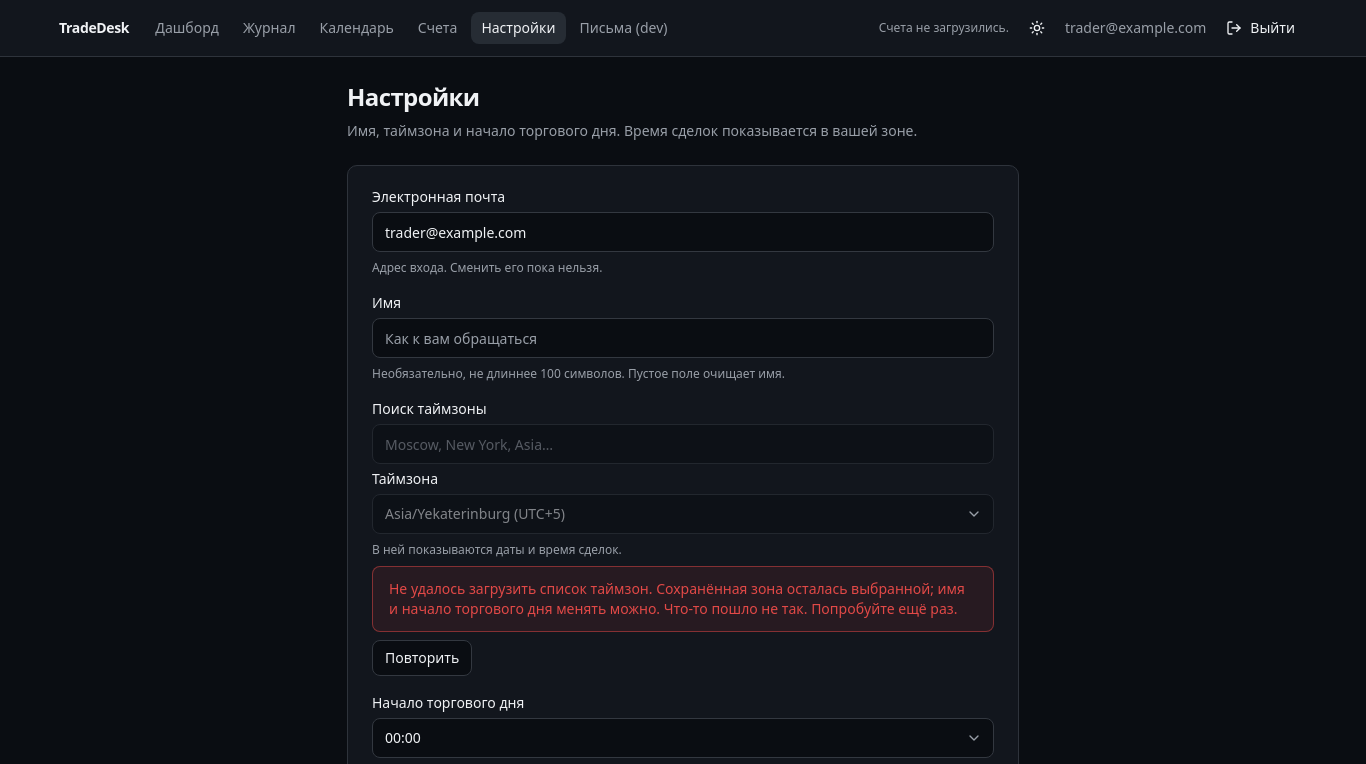
/settings › сбой списка зон гасит одно поле, остальные настройки остаются рабочими
This screenshot has width=1366, height=764.
Expected: the dropdown labelled "Таймзона" is disabled, [372, 494, 994, 534]
Expected: the dropdown labelled "Таймзона" shows "Asia/Yekaterinburg (UTC+5)", [372, 494, 994, 534]
# Экран не сломан: имя и час меняются и уходят в PATCH без списка зон.
Type "Ник" into the field labelled "Имя".
click(683, 338); type("Ник")  # box [372, 318, 994, 358]
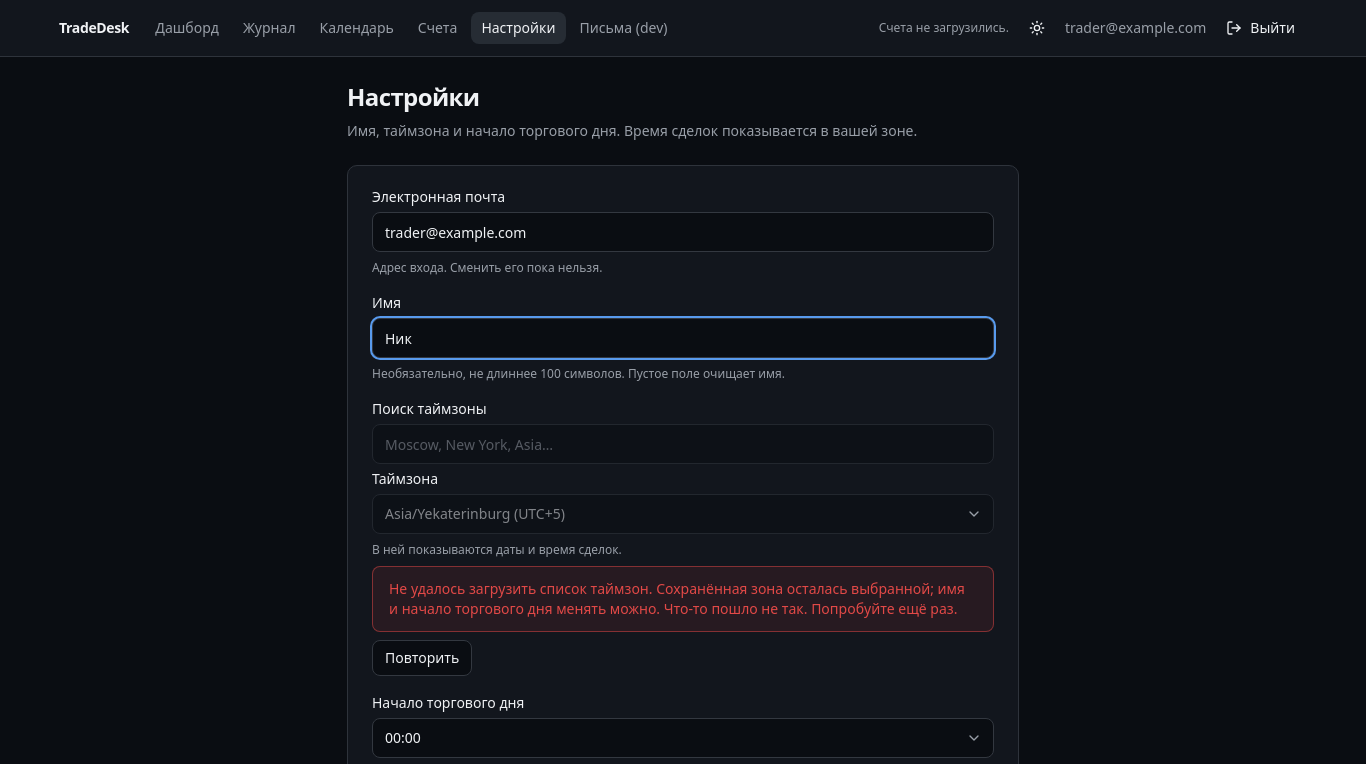
Click the button "Повторить".
click(422, 658)  # box [372, 640, 472, 676]
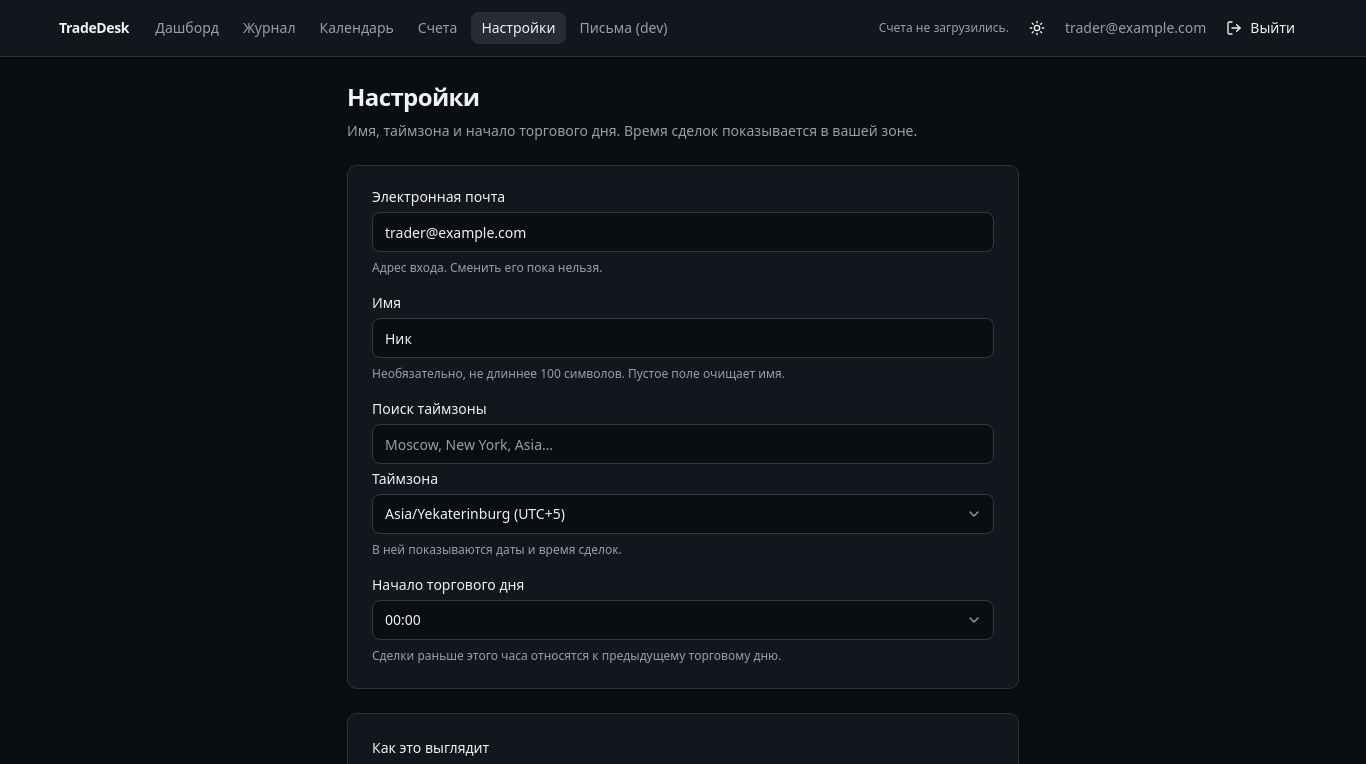
Expected: the dropdown labelled "Таймзона" is enabled, [372, 494, 994, 534]
